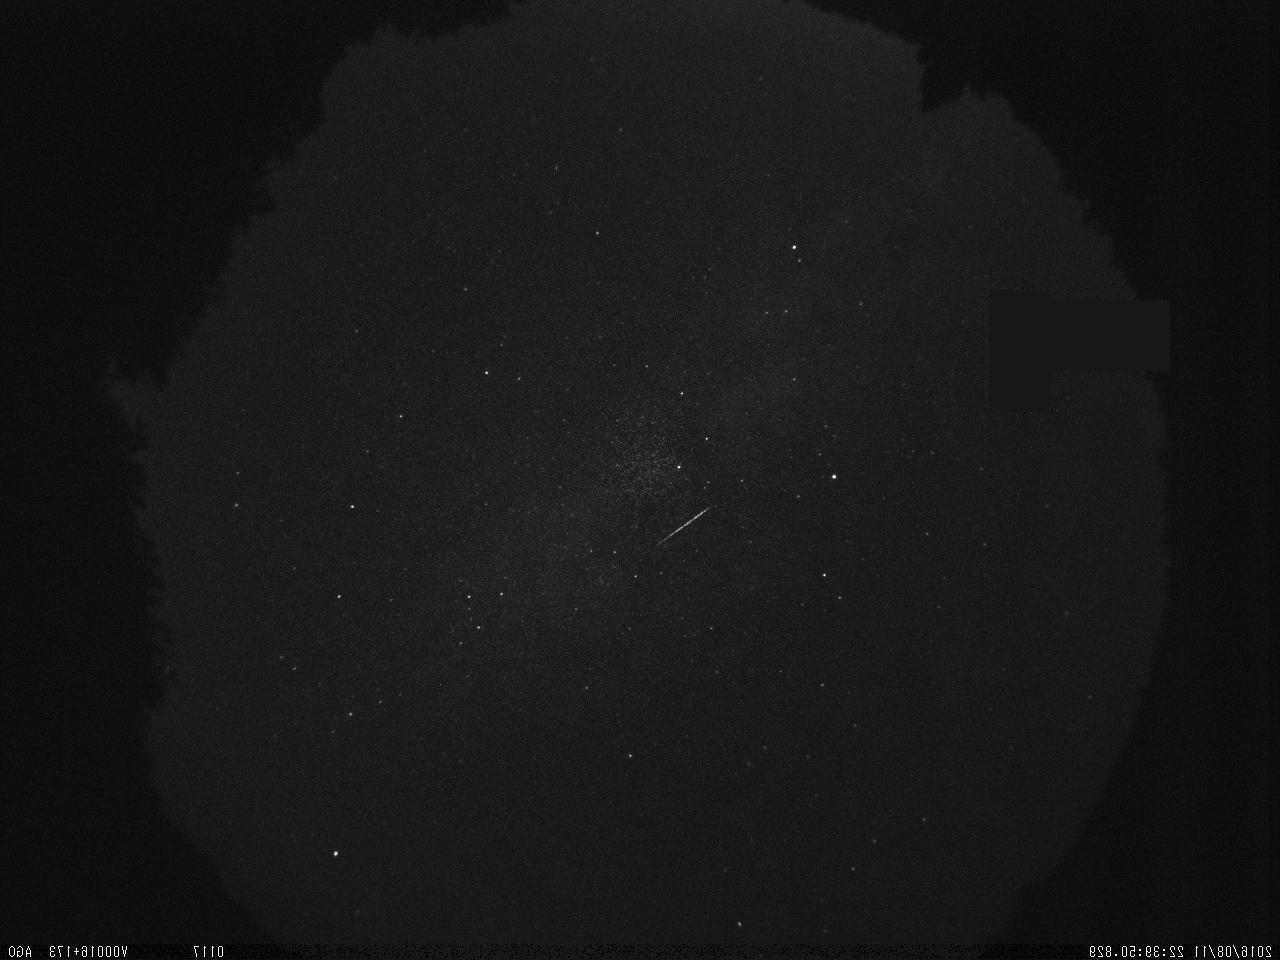meteor: (641, 501, 725, 553)
